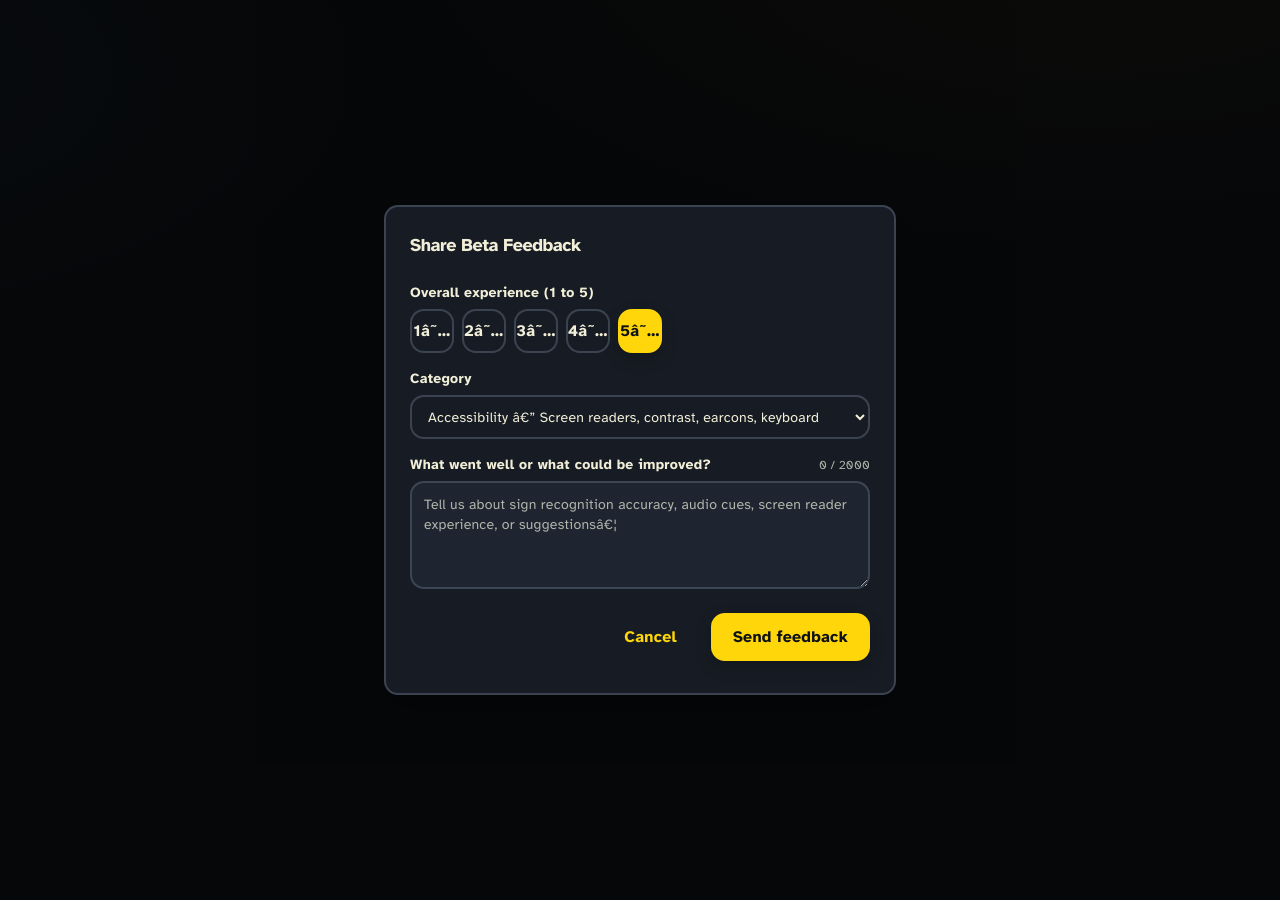
Test: FeedbackModal Component › displays error message if submission fails
Step 1. Click the button "Send feedback" → [790, 637], box [711,613,870,661]
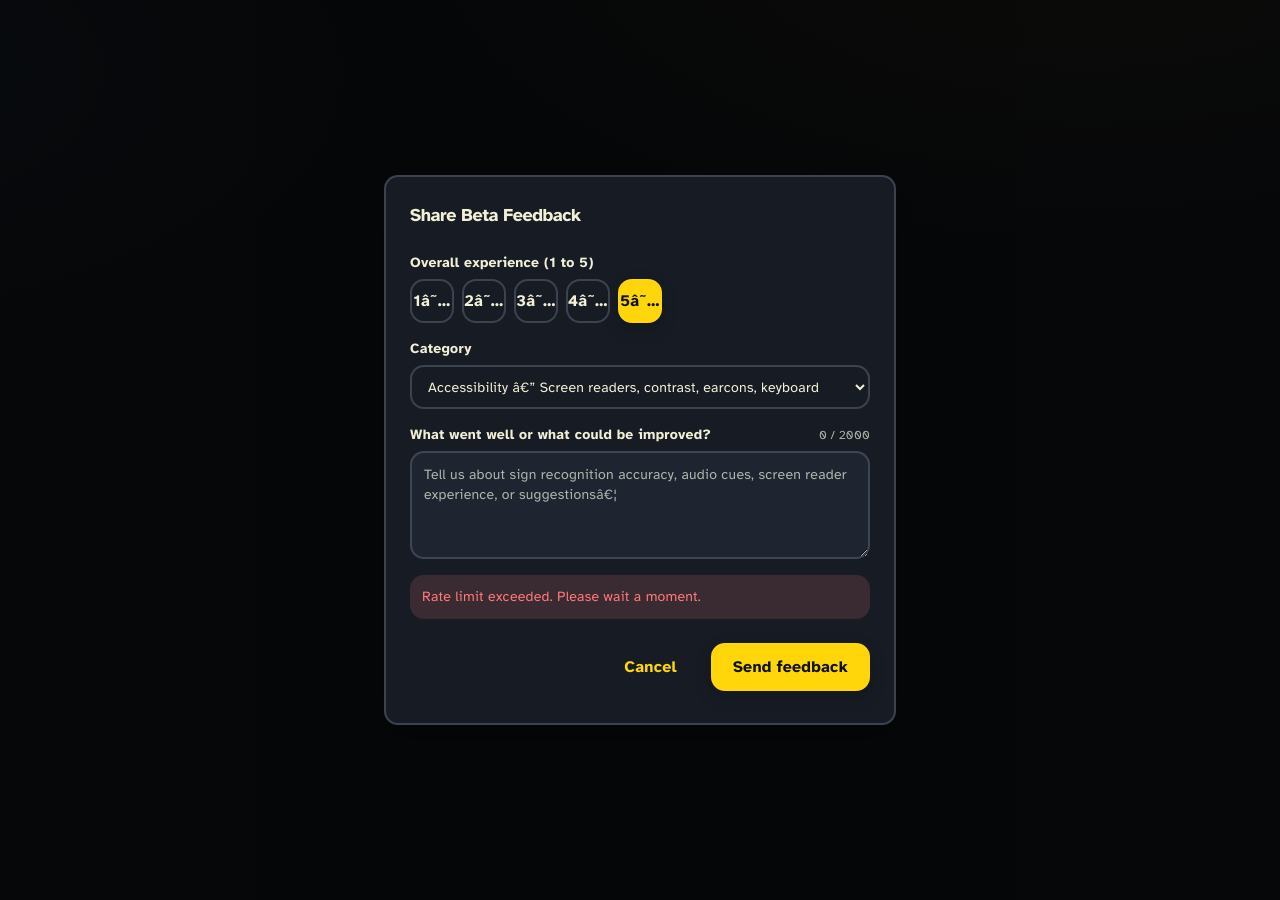
Now the text "Rate limit exceeded. Please wait a moment." is shown, box [410,575,870,619]
